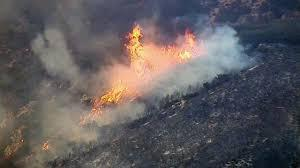fire: (82, 22, 199, 120)
yanwu: (4, 7, 244, 165)
